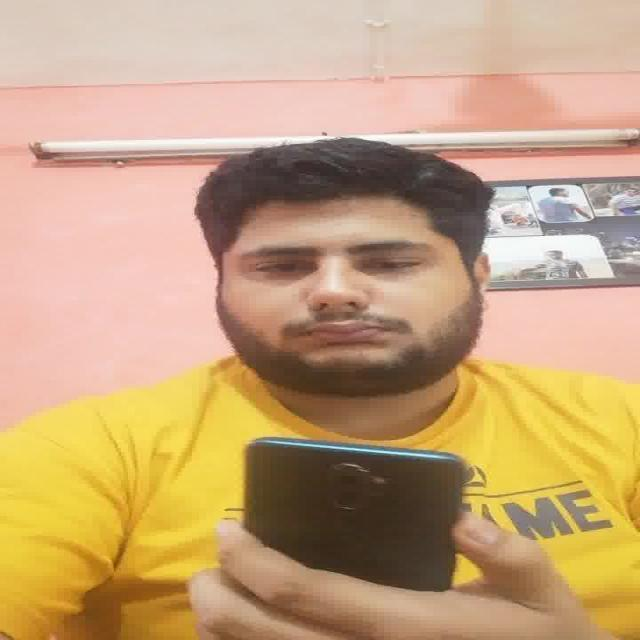Phone: (238, 434, 468, 604)
